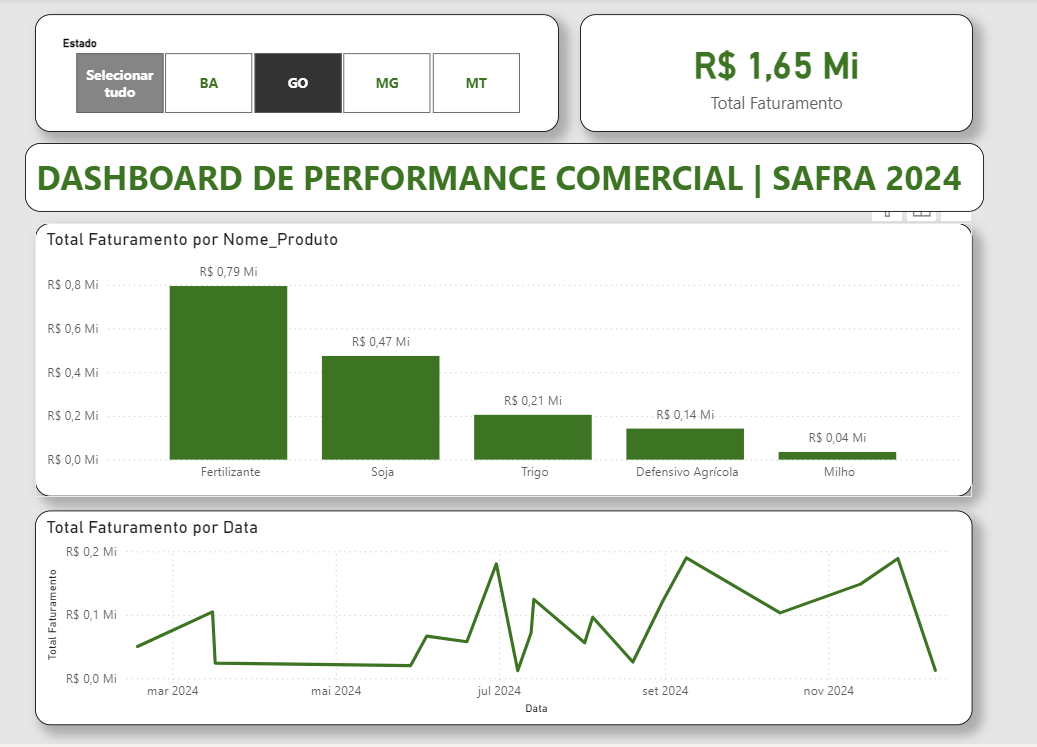

The page's visual inventory and layout, read from the dashboard file:
{"tool":"powerbi","page":{"name":"Página 1","canvas":[1280,720],"ordinal":0},"visuals":[{"type":"card","fields":{"Values":["fVendas.Total Faturamento"]},"box":[748,15.7,378.8,113.4],"z":0},{"type":"columnChart","fields":{"Category":["dProdutos.Nome_Produto"],"Y":["fVendas.Total Faturamento"]},"box":[222,217.2,904.8,264.2],"z":1000},{"type":"slicer","fields":{"Values":["dClientes.Estado"]},"box":[222,15.7,505.5,113.4],"z":2000},{"type":"lineChart","fields":{"Y":["fVendas.Total Faturamento"],"Category":["fVendas.Data"]},"box":[222,494.6,904.8,207.5],"z":3000},{"type":"textbox","box":[212.3,139.9,925.3,66.4],"z":4000}]}

Visuals, with their boxes on the page's 1280x720 design canvas (x1, y1, x2, y2). These are canvas units, not pixel positions in the 1037x747 screenshot, which may show the page scaled, cropped or inside an application window:
card - fVendas.Total Faturamento: bbox=[748, 16, 1127, 129]
columnChart - dProdutos.Nome_Produto x fVendas.Total Faturamento: bbox=[222, 217, 1127, 481]
slicer - dClientes.Estado: bbox=[222, 16, 728, 129]
lineChart - fVendas.Total Faturamento x fVendas.Data: bbox=[222, 495, 1127, 702]
textbox: bbox=[212, 140, 1138, 206]
